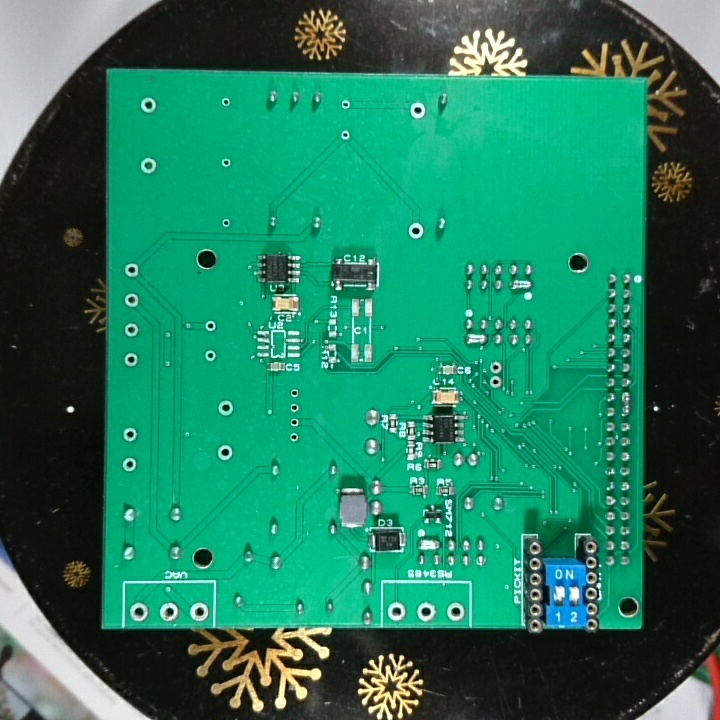F: (157, 598, 180, 623), (414, 600, 438, 623), (187, 601, 211, 624), (128, 600, 151, 623), (137, 156, 161, 178), (445, 600, 467, 623), (385, 600, 407, 623), (138, 95, 159, 118), (408, 98, 429, 121), (216, 441, 235, 466), (405, 220, 427, 241), (120, 454, 140, 476), (122, 320, 141, 343), (121, 350, 140, 372), (216, 398, 235, 419), (122, 290, 140, 312), (122, 262, 141, 280), (121, 426, 138, 445), (202, 346, 219, 364), (486, 375, 506, 390), (337, 126, 354, 143), (285, 428, 302, 445), (487, 360, 506, 375), (202, 318, 217, 335), (287, 414, 302, 431), (219, 155, 234, 171), (339, 98, 354, 114), (219, 216, 234, 231), (288, 400, 302, 415), (219, 95, 233, 109), (288, 386, 302, 400)
P: (508, 275, 536, 292), (417, 537, 443, 553), (463, 332, 488, 347), (620, 390, 632, 418)
